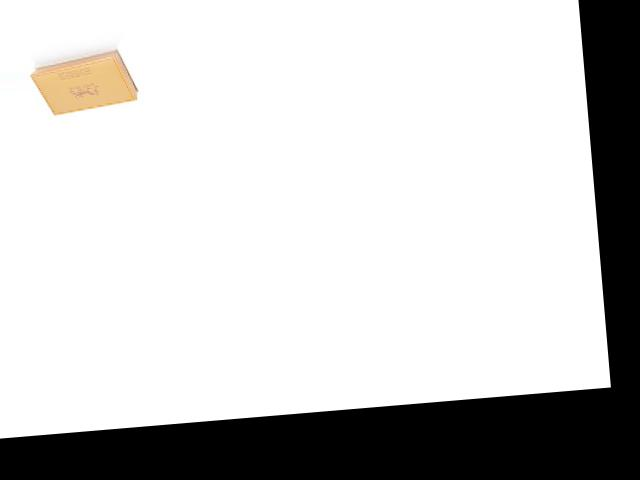chocolate: (29, 39, 142, 120)
